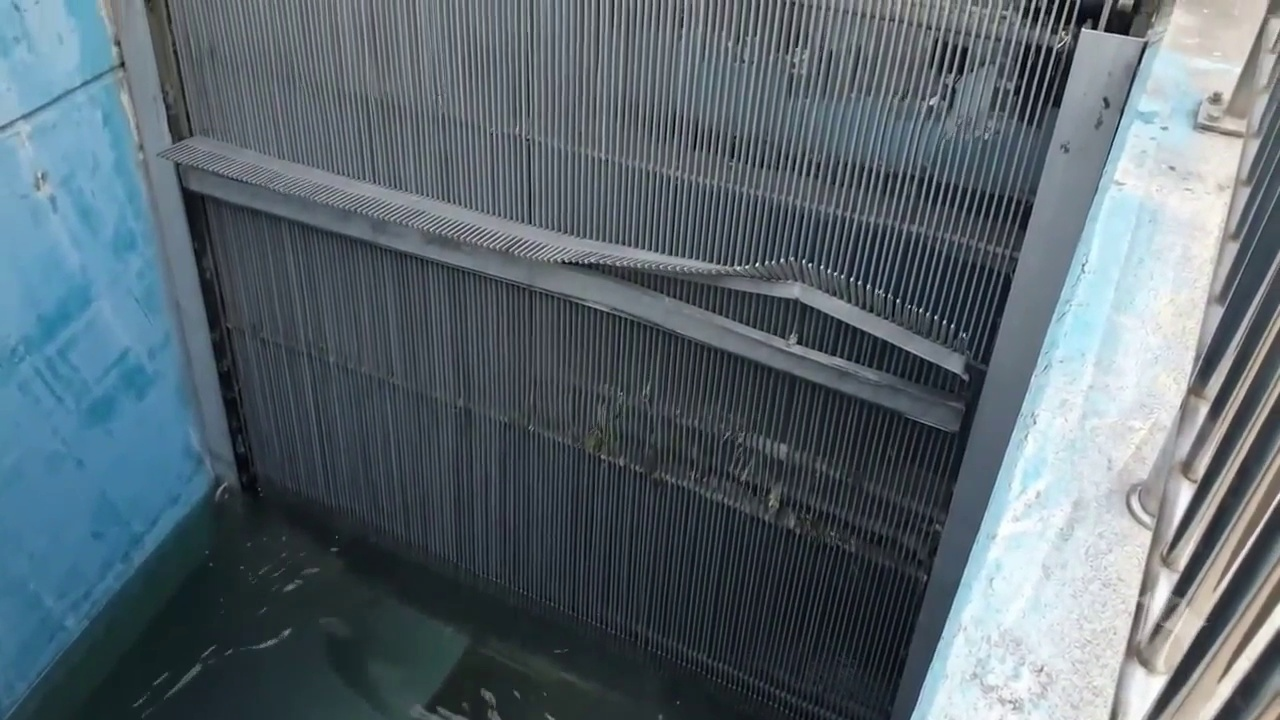damage: (496, 211, 979, 425)
